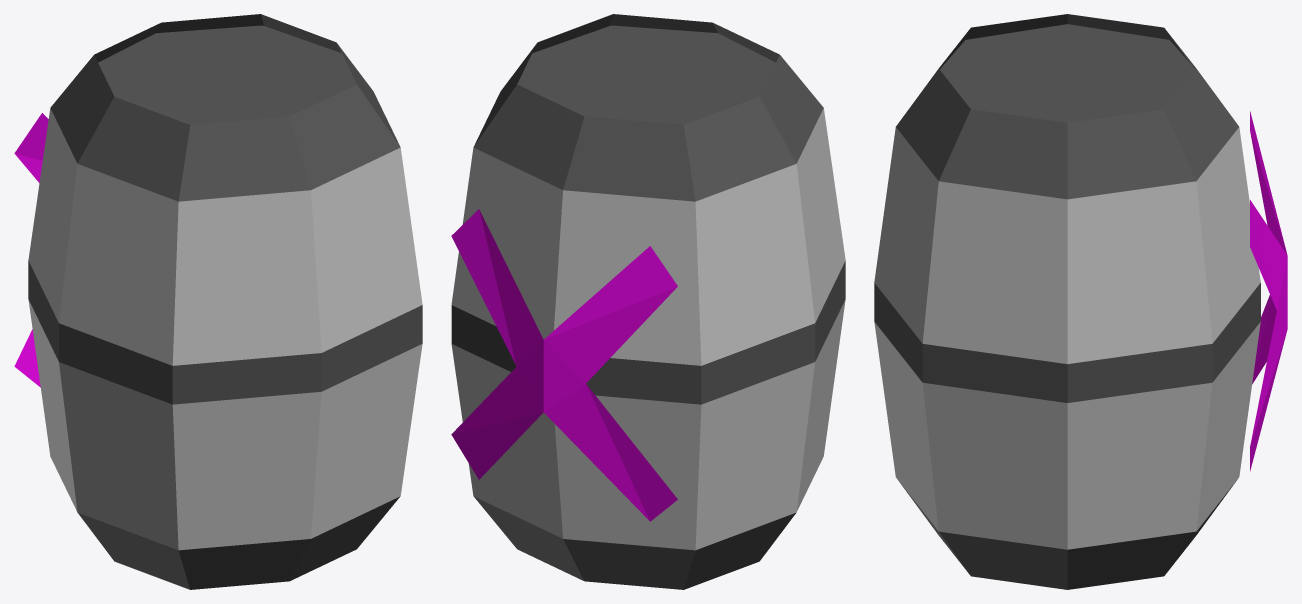
File: barrelredcross.obj
3 renders of one model, left to right at view 1: azimuth 30°, elevation 25°; view 2: azimuth 150°, elevation 25°; view 3: azimuth 270°, elevation 25°, orthographic.
Visible parts, largest first — view 1: barrelredcross_back; view 2: barrelredcross_back; view 3: barrelredcross_back.
Boxes of the visible parts, left/top/right/bottom form: barrelredcross_back: left=14, top=14, right=422, bottom=589; barrelredcross_back: left=451, top=14, right=845, bottom=589; barrelredcross_back: left=874, top=14, right=1287, bottom=589.
Size of the model in its own units: 0.72 by 0.96 by 0.77.
